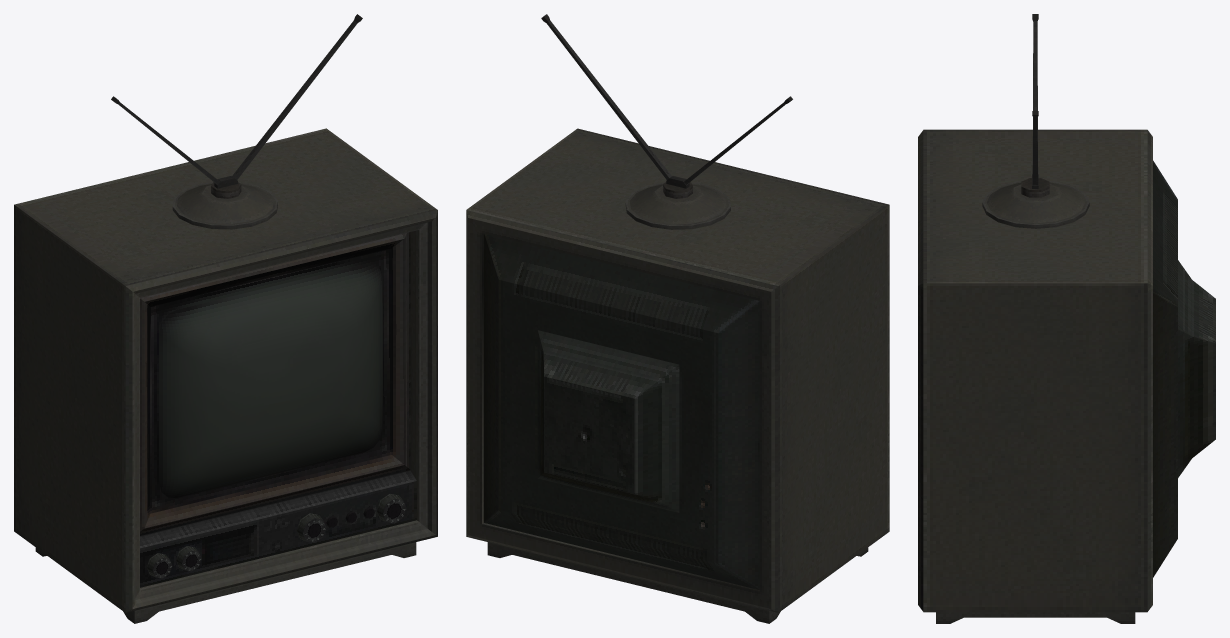
The picture shows the model from 3 angles, left to right: view 1: azimuth 30°, elevation 25°; view 2: azimuth 150°, elevation 25°; view 3: azimuth 270°, elevation 25°; orthographic projection.
Parts seen in each view (by area): view 1: tv_mp_1; view 2: tv_mp_1; view 3: tv_mp_1.
Part boxes in pixels (x1=…): tv_mp_1: x1=14, y1=14, x2=437, y2=623; tv_mp_1: x1=466, y1=14, x2=889, y2=623; tv_mp_1: x1=918, y1=14, x2=1215, y2=623.
Size of the model in its own units: 0.51 by 0.7893 by 0.4183.
Materials: 2 (2 with a texture image).
